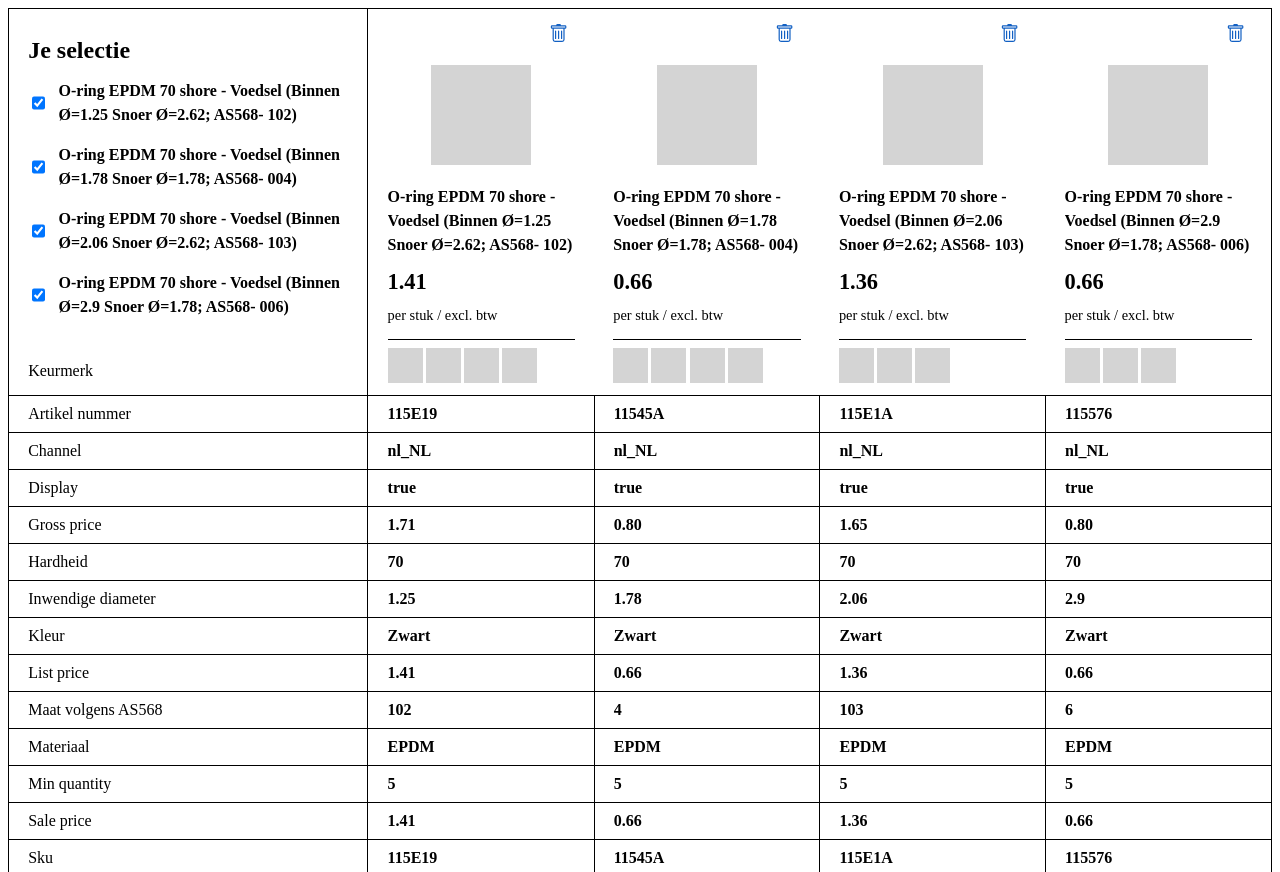
it: Remove-buttons OnClick - product is removed and checkbox - not checked
Click the 1st button with test id "product-remove-button" at [559, 35], box x1=542 y1=17 x2=575 y2=52
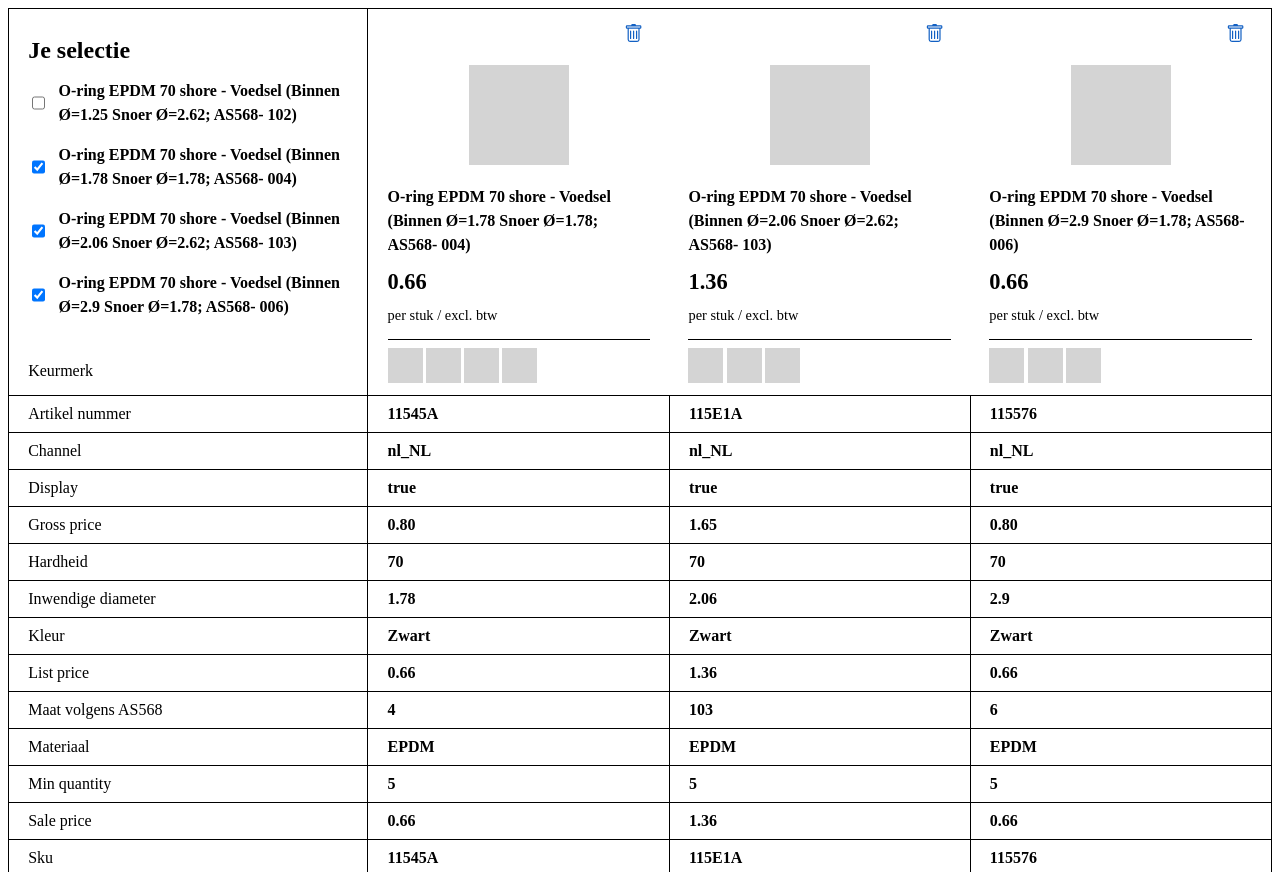
Result: the checkbox showing "115E19" is not checked at x1=32 y1=82 x2=45 y2=124
Result: the text "115E19" is not shown
Click the 1st button with test id "product-remove-button" at [634, 35], box x1=618 y1=17 x2=650 y2=52
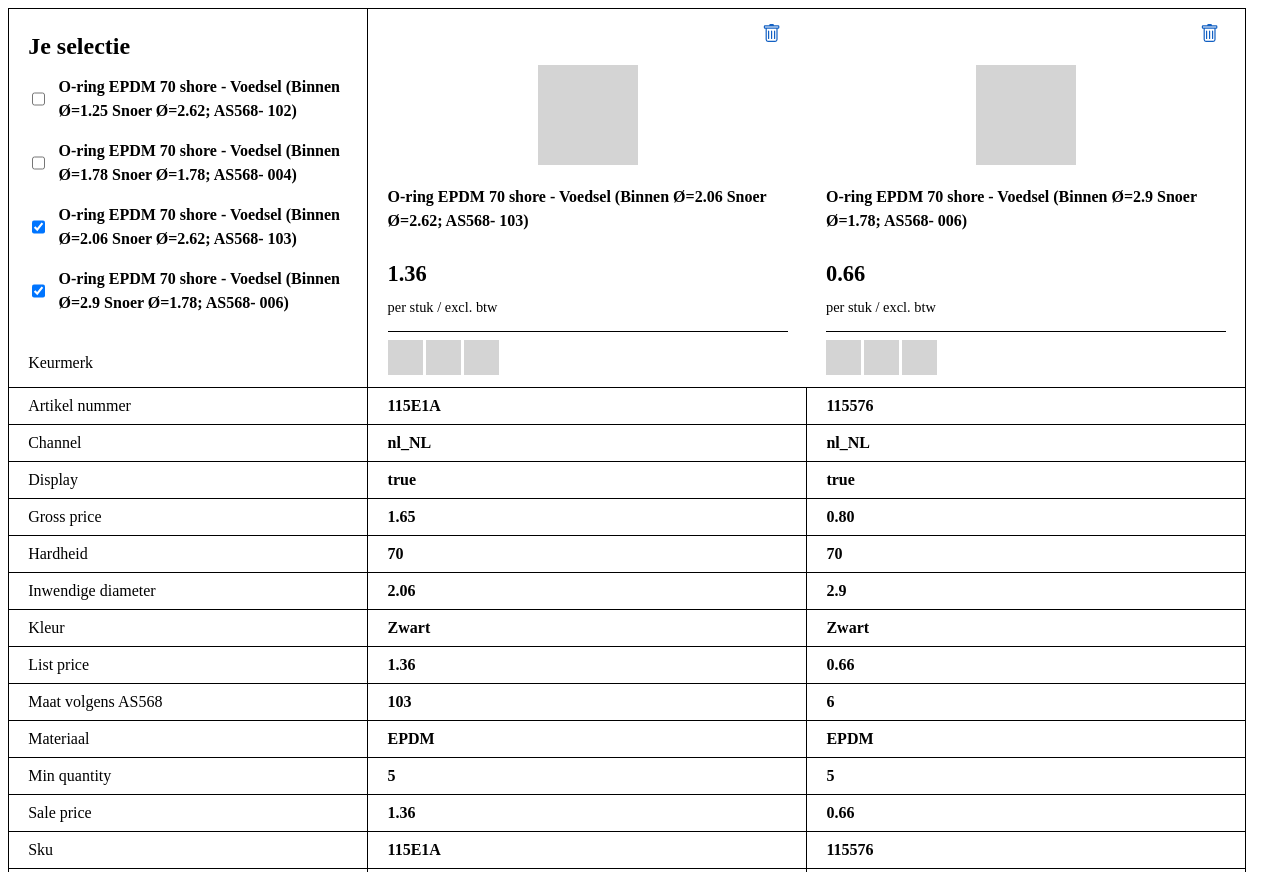
Result: the checkbox showing "11545A" is not checked at x1=32 y1=142 x2=45 y2=184
Result: the text "11545A" is not shown
Click the 1st button with test id "product-remove-button" at [771, 35], box x1=755 y1=17 x2=788 y2=52
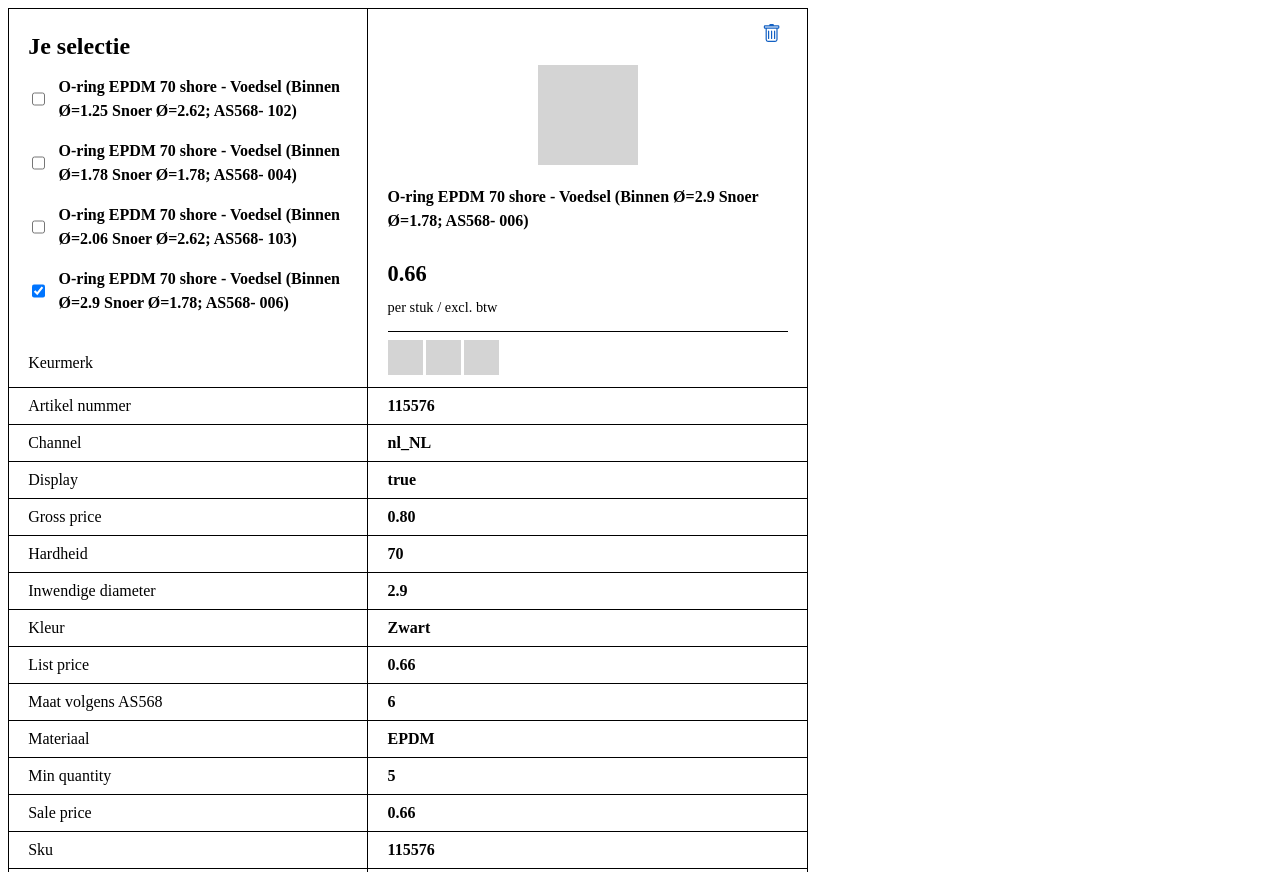
Result: the checkbox showing "115E1A" is not checked at x1=32 y1=206 x2=45 y2=248
Result: the text "115E1A" is not shown
Click the button with test id "product-remove-button" at [771, 35], box x1=755 y1=17 x2=788 y2=52
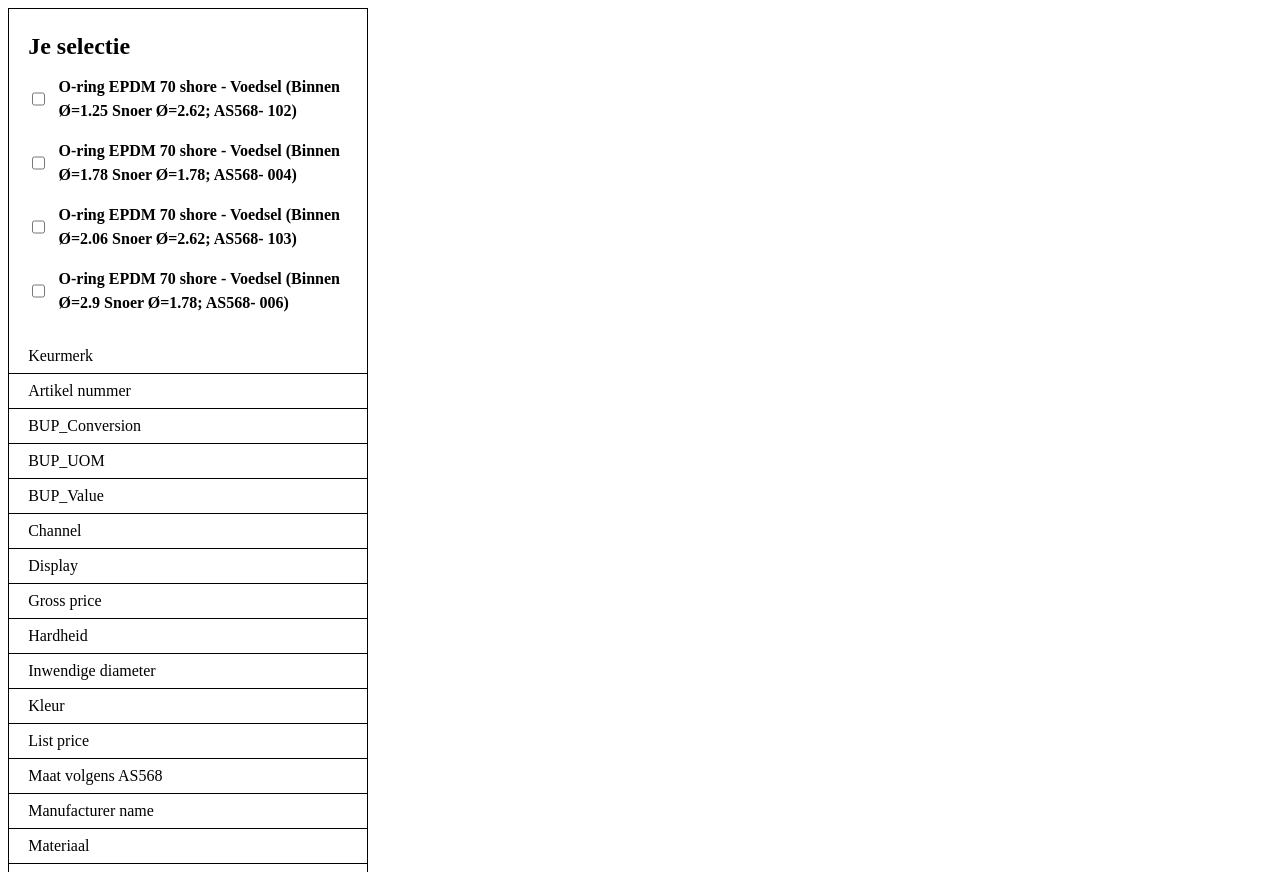
Result: the checkbox showing "115576" is not checked at x1=32 y1=270 x2=45 y2=312
Result: the text "115576" is not shown
